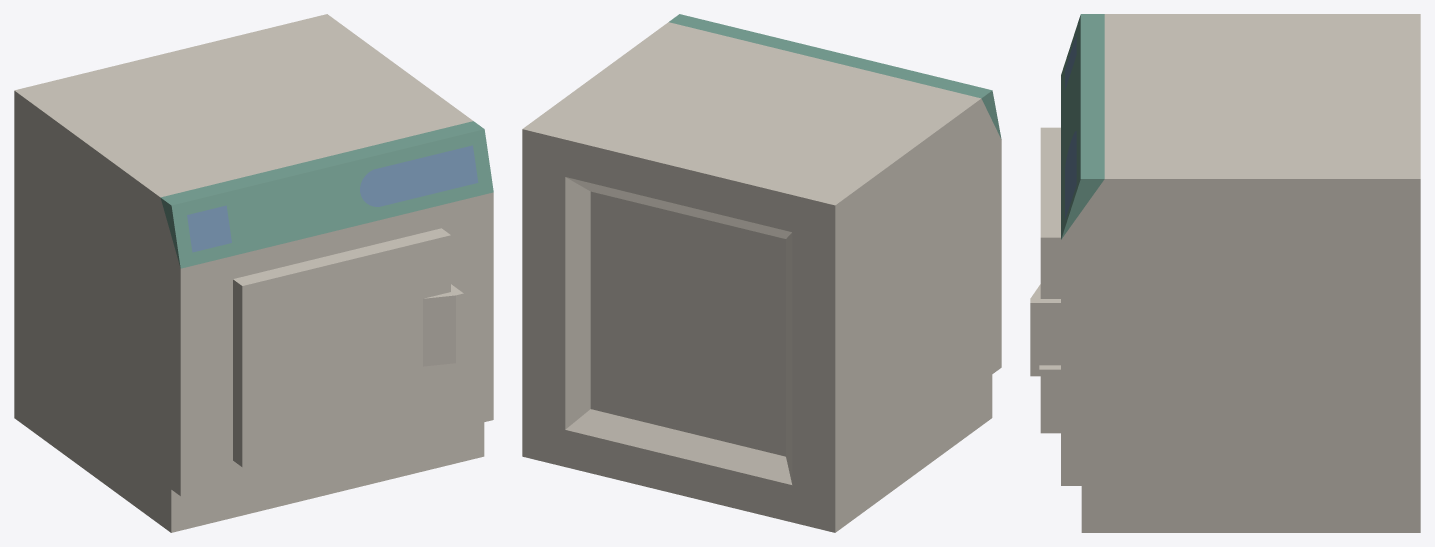
Rendered from dryer.glb.
3 views of the same model, side by side, from view 1: azimuth 30°, elevation 25°; view 2: azimuth 150°, elevation 25°; view 3: azimuth 270°, elevation 25° (orthographic). The views are drawn at different scales.
Bounding box in the file's own units: 1 × 1 × 1.
